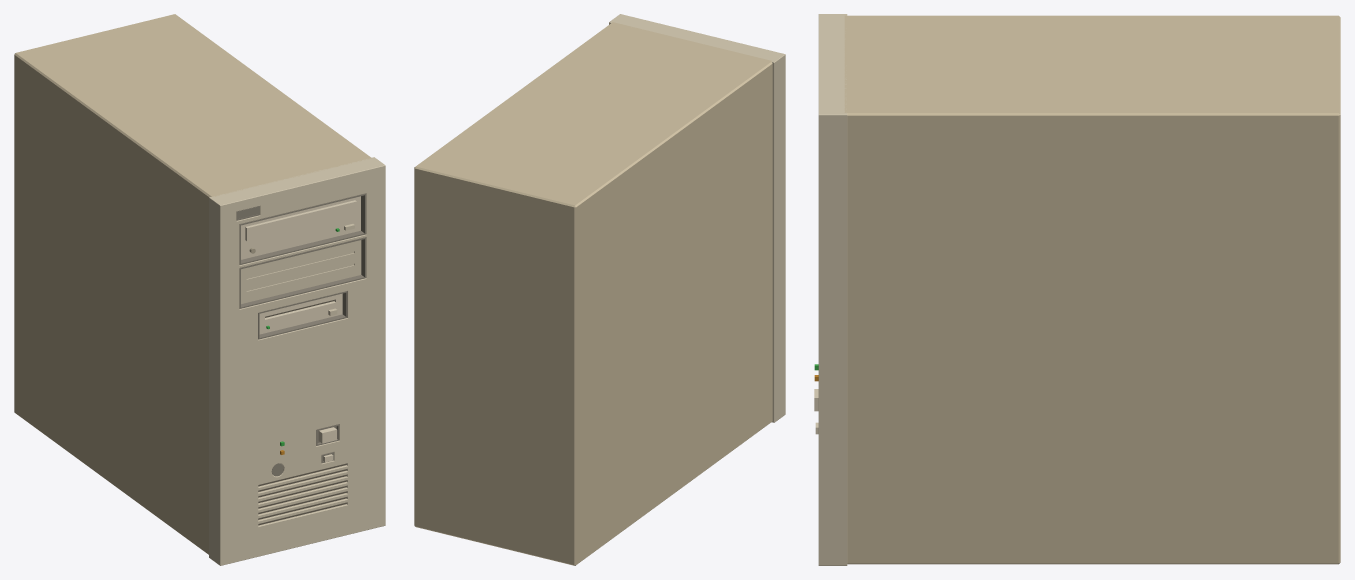
File: tower-b.glb
3 renders of one model, left to right at view 1: azimuth 30°, elevation 25°; view 2: azimuth 150°, elevation 25°; view 3: azimuth 270°, elevation 25°, orthographic. The views are drawn at different scales.
Parts seen in each view (by area): view 1: body, fascia, bay-cover0, cd-face, cd-tray, fdd-face, vent-floor, bay0-liner, bay1-liner, fdd-liner; view 2: body, fascia; view 3: body, fascia.
Boxes of the visible parts, x1,y1,x2,y2 form: body: (14, 14, 371, 554); fascia: (209, 157, 385, 565); bay-cover0: (241, 240, 361, 303); cd-face: (241, 196, 360, 259); cd-tray: (245, 200, 356, 241); fdd-face: (259, 293, 342, 334); vent-floor: (258, 464, 346, 525); bay0-liner: (239, 193, 365, 264); bay1-liner: (239, 237, 365, 308); fdd-liner: (258, 291, 347, 339); body: (414, 22, 772, 565); fascia: (609, 14, 785, 422); body: (844, 15, 1340, 564); fascia: (818, 14, 847, 565).
Bounding box in the file's own units: 0.199 × 0.42 × 0.4375.
